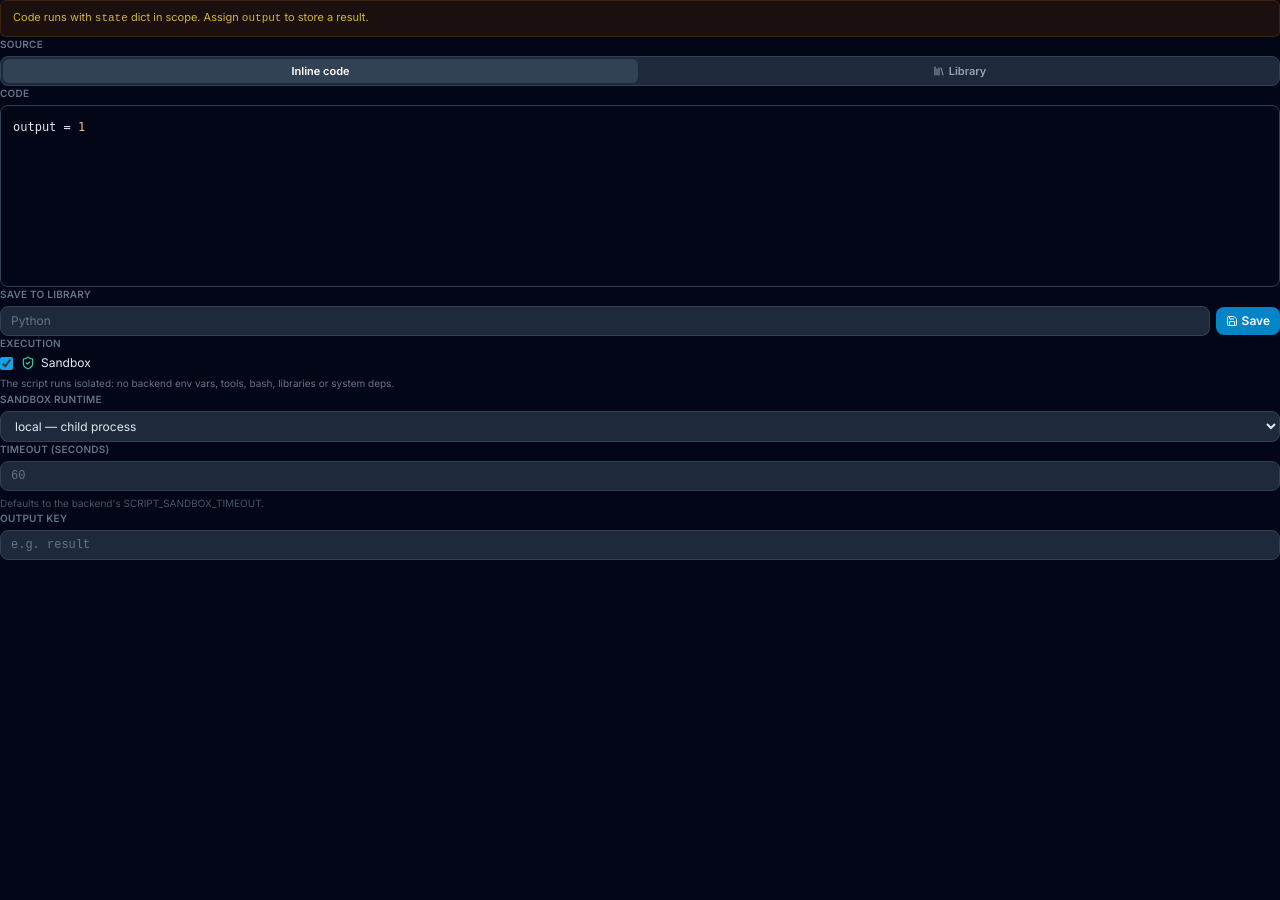
Test case: PythonStepFields › does not disable the sandbox until the warning is confirmed
Click the checkbox. click: (6,364)
box: top-left (0, 357), bottom-right (13, 370)
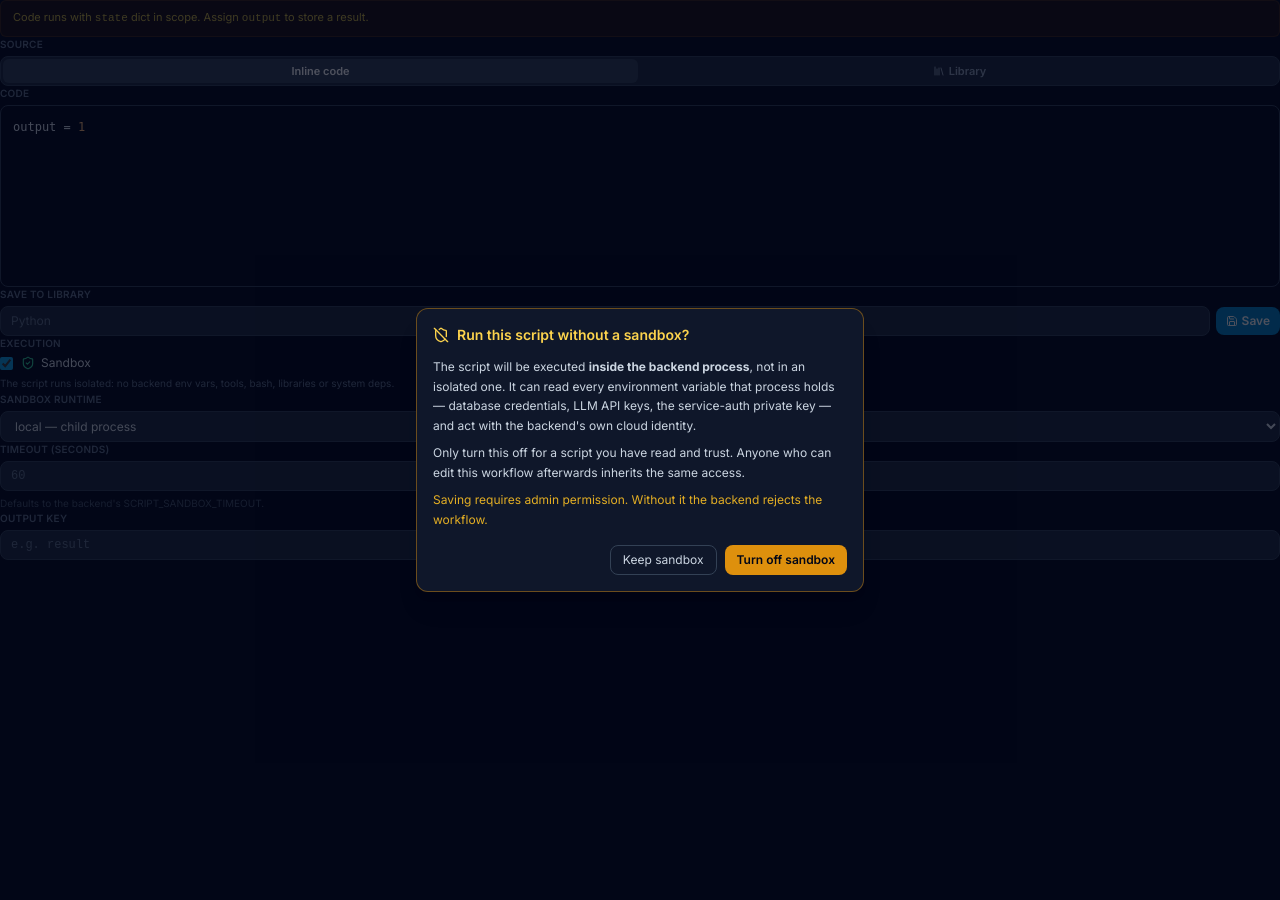
Expected: the dialog is shown
Expected: the dialog shows "inside the backend process", top-left (589, 359), bottom-right (749, 374)
Expected: the dialog shows "admin permission", top-left (433, 492), bottom-right (822, 526)
